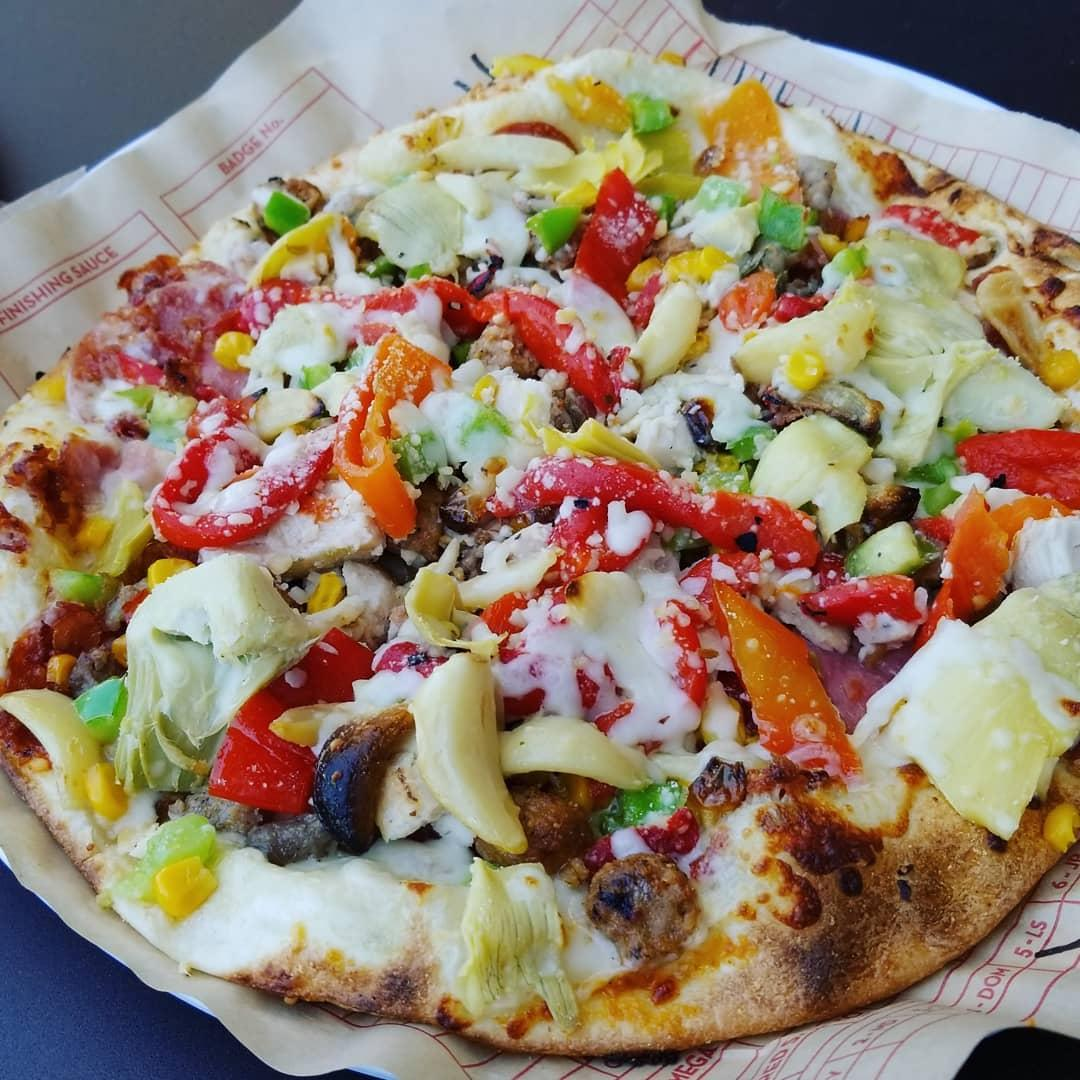Corn: (627, 242, 736, 291), (80, 765, 127, 813), (141, 555, 205, 590), (1042, 805, 1080, 855), (1039, 346, 1080, 390), (784, 346, 823, 389), (218, 325, 257, 365), (43, 650, 79, 689), (79, 518, 113, 542), (472, 374, 496, 405)
Mushroom: (313, 710, 409, 849), (600, 859, 704, 956)
Peppers: (507, 459, 810, 566), (207, 638, 366, 799), (720, 592, 854, 771), (443, 279, 628, 404), (149, 432, 334, 545), (581, 585, 716, 733), (342, 335, 438, 520), (945, 488, 1062, 621), (693, 87, 799, 194), (961, 427, 1080, 512), (585, 173, 657, 278), (253, 212, 362, 279), (556, 75, 637, 128)
Pizza: (0, 57, 1080, 1043)
